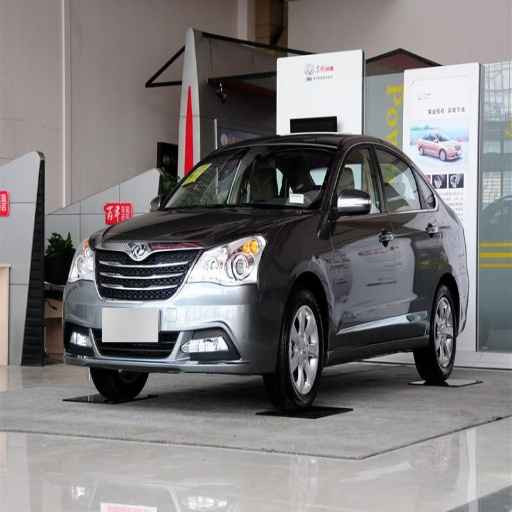front_bumper: (65, 238, 288, 378)
front_glass: (163, 146, 334, 207)
front_left_door: (328, 142, 393, 338)
